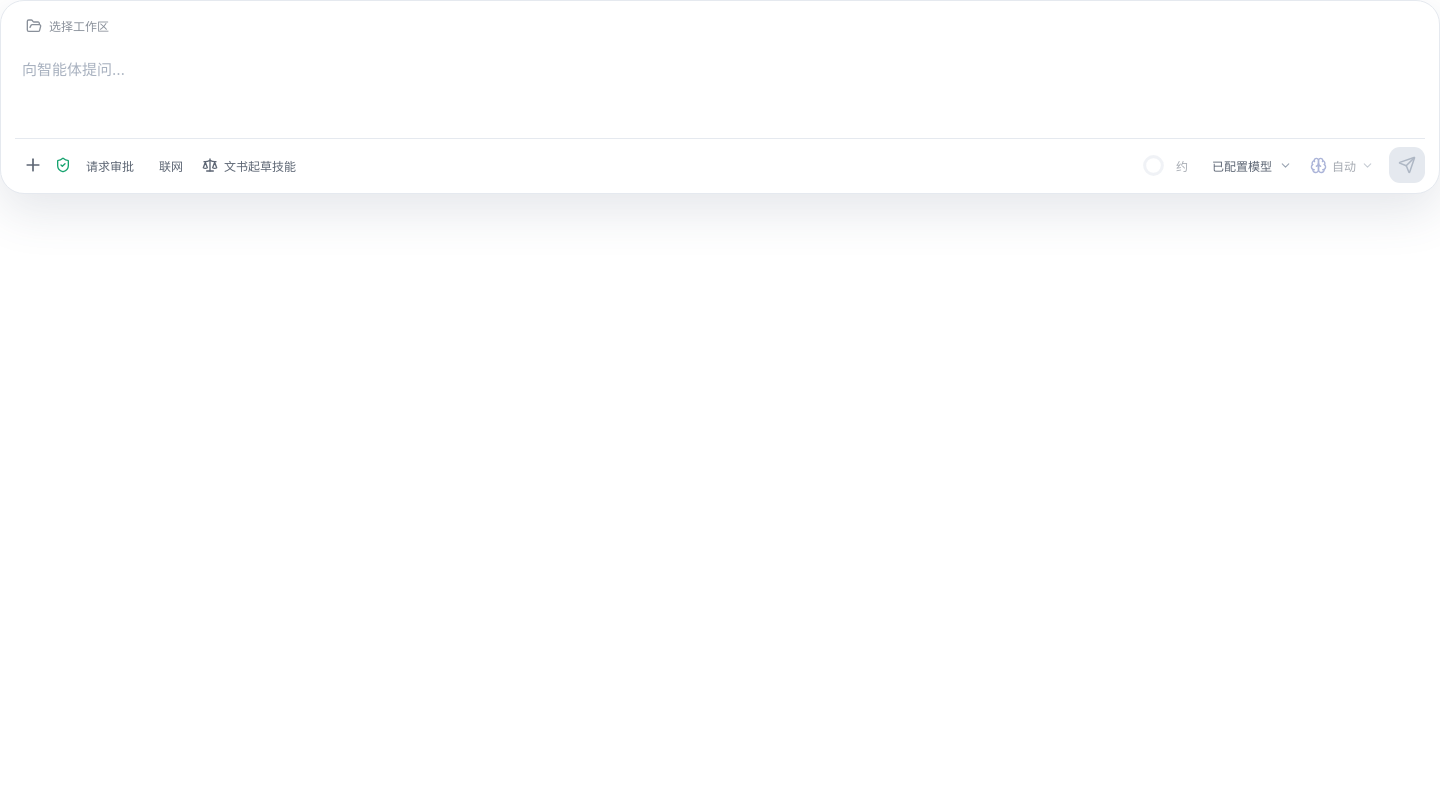
Test: errors are explicit and retry reloads the catalog; an empty catalog is not an error
Click the button "文书起草技能" at (249, 165), box [194,147,304,183]
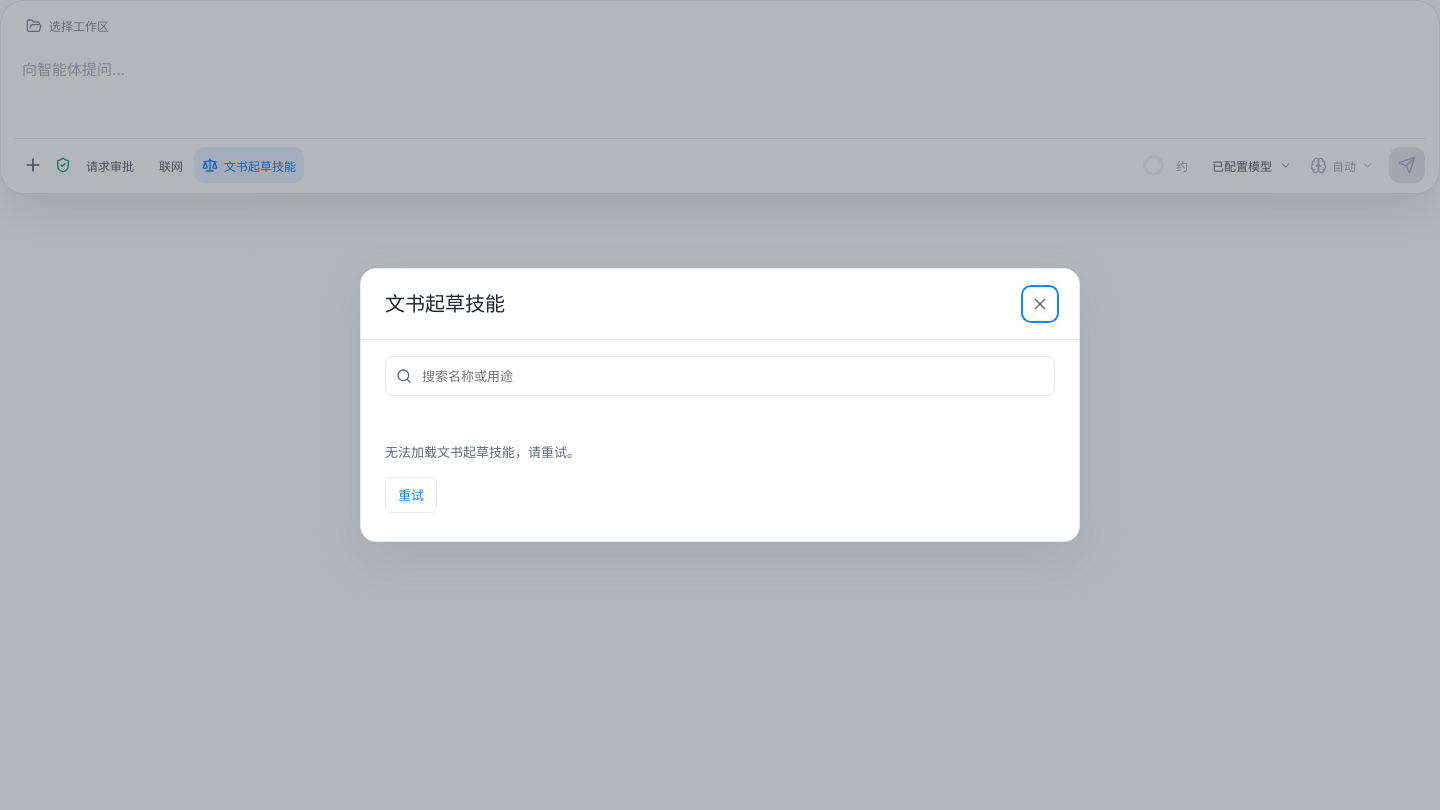
expect the message reads "无法加载文书起草技能，请重试。 重试": met, box [385,444,580,513]
Click the button "重试" at (411, 495), box [385,476,437,513]
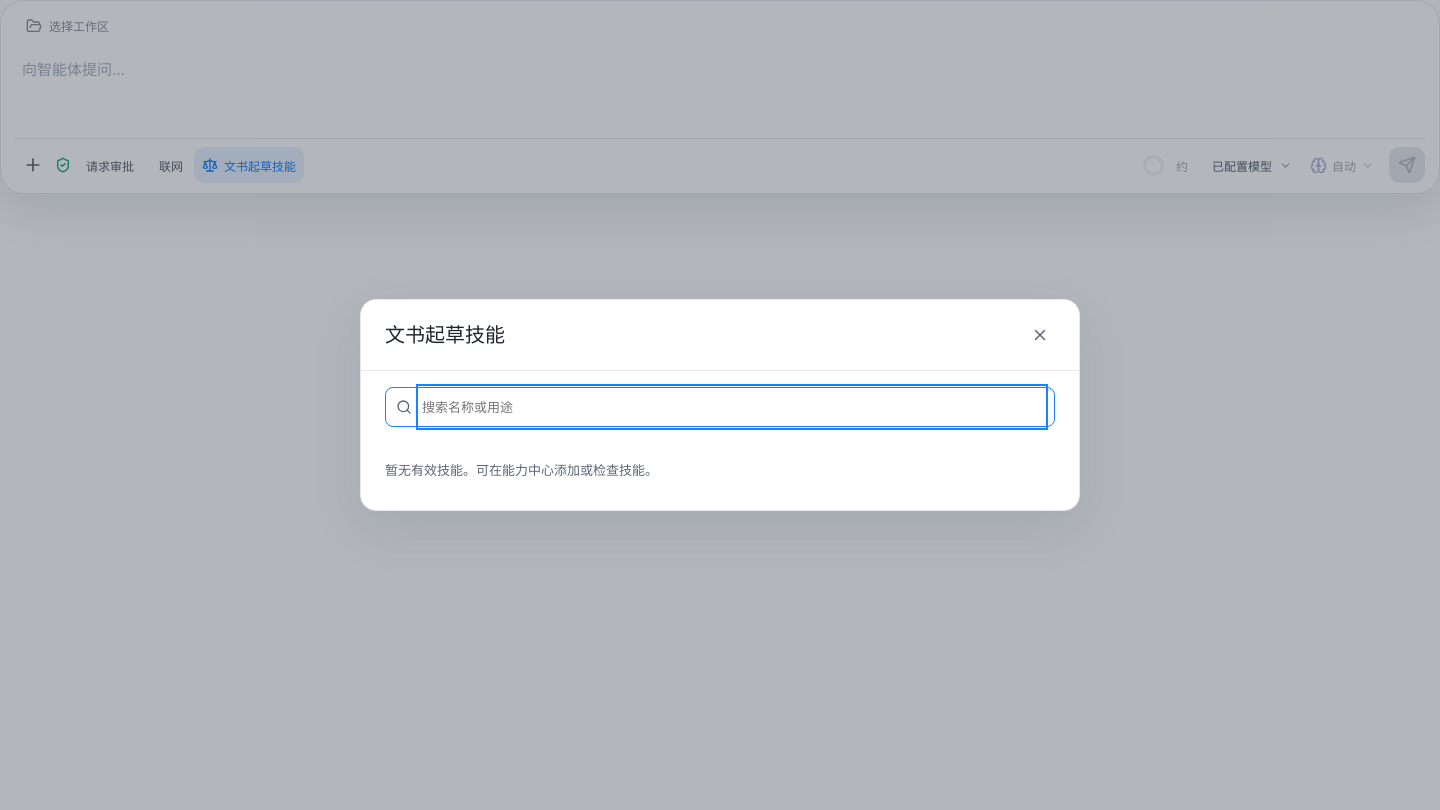
expect the text "暂无有效技能。可在能力中心添加或检查技能。" is shown: met, box [385,462,658,478]
